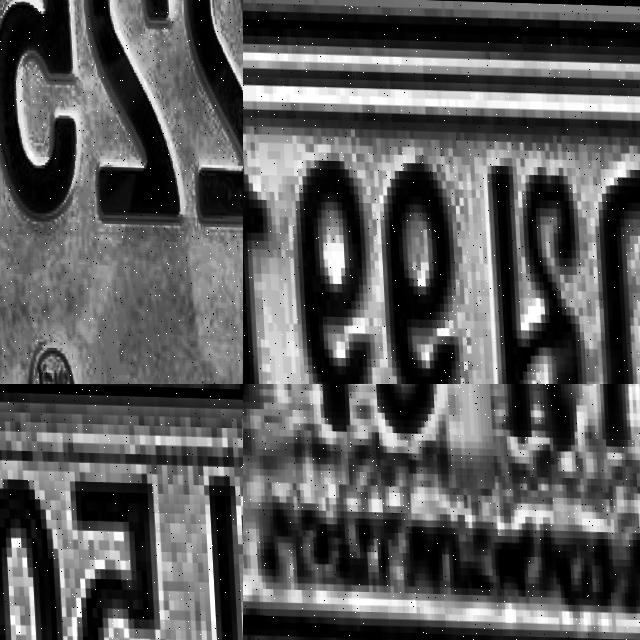license-plate: (243, 31, 640, 384), (243, 384, 640, 640), (0, 0, 243, 384), (0, 384, 243, 640)
